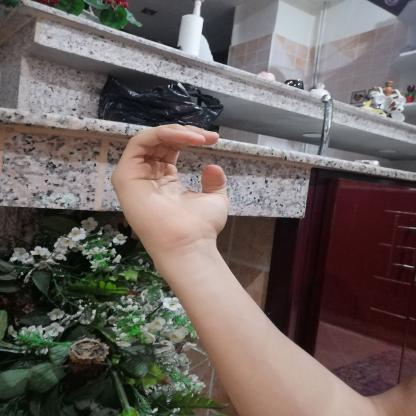JEEM: (95, 113, 253, 255)
